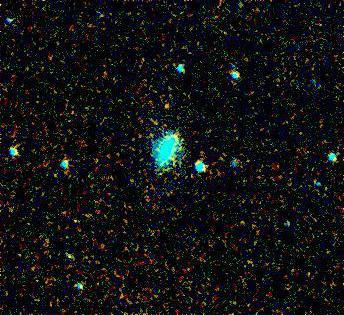star: (151, 90, 181, 120)
